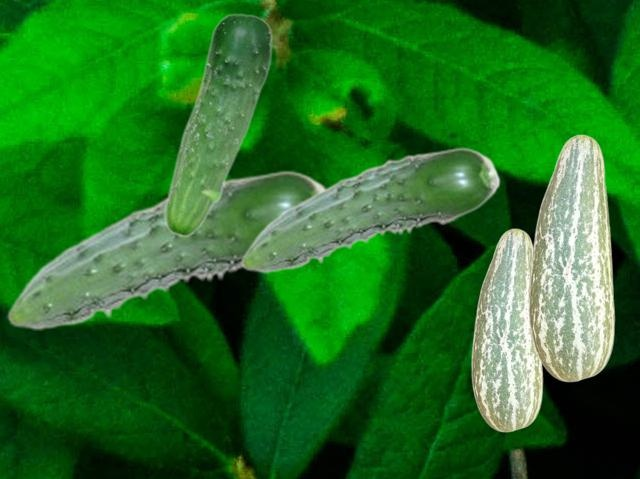cucumber: (6, 170, 326, 329), (240, 147, 500, 272), (163, 13, 272, 236), (528, 134, 614, 381), (471, 228, 542, 431)
